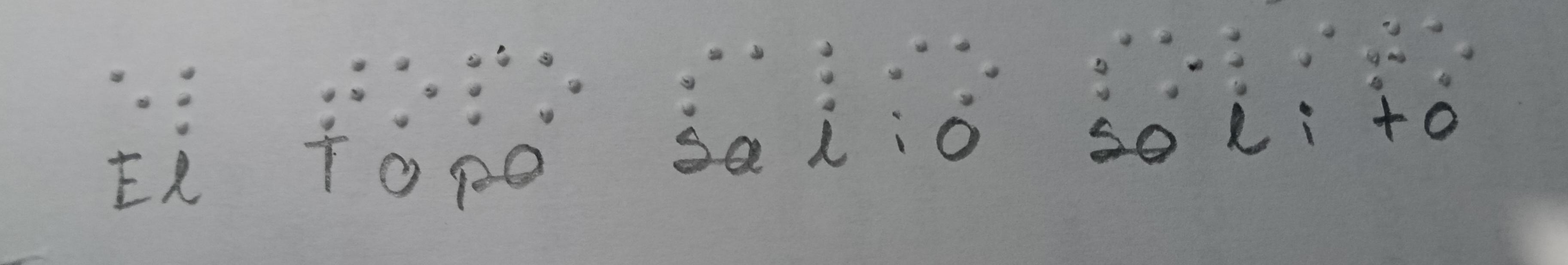a: (726, 16, 790, 96)
e: (95, 50, 165, 140)
i: (1282, 14, 1345, 96), (876, 24, 936, 108)
l: (805, 16, 863, 121), (165, 39, 220, 143), (1211, 16, 1265, 107)
o: (947, 31, 1028, 116), (528, 39, 598, 137), (1143, 14, 1207, 117), (1418, 14, 1490, 91), (389, 48, 444, 137)
p: (453, 39, 518, 141)
s: (662, 29, 733, 127), (1074, 22, 1147, 116)
t: (303, 52, 384, 137), (1358, 11, 1413, 96)
